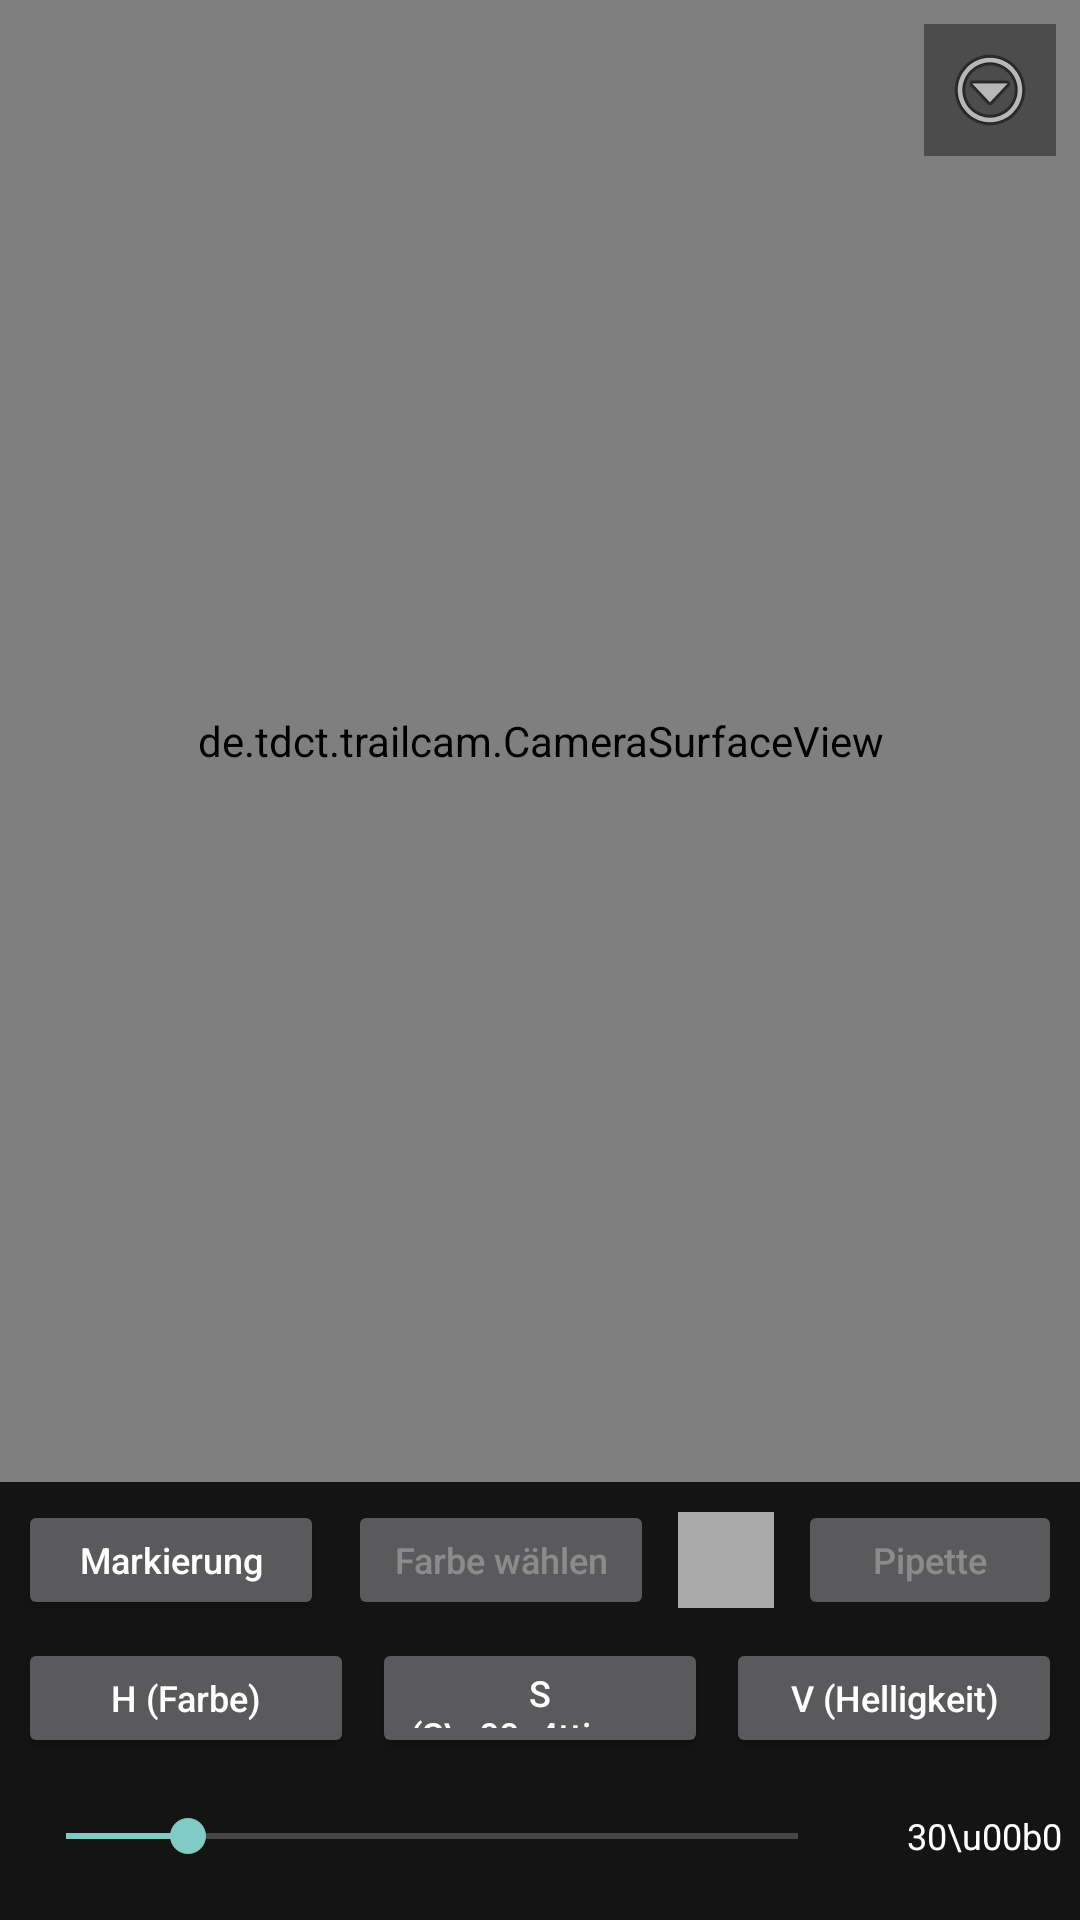

Icon click points for this 1080×1920 phone screenshot, format (x,y):
more: (990,90)
